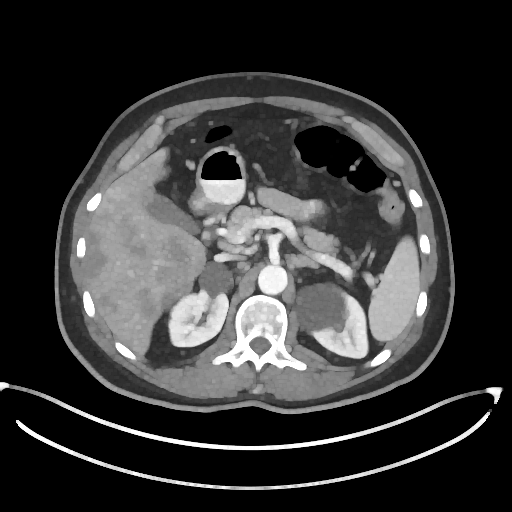Lesion: (196, 260, 236, 304)
